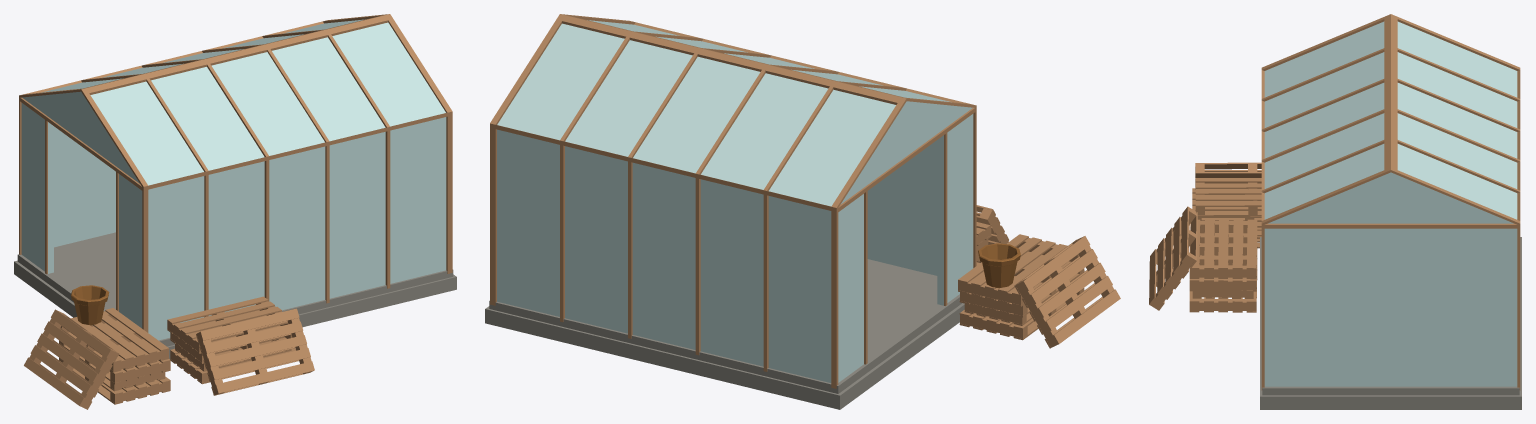
Rendered from Green House.fbx.
3 views of the same model, side by side, from view 1: azimuth 30°, elevation 25°; view 2: azimuth 150°, elevation 25°; view 3: azimuth 270°, elevation 25° (orthographic). The views are drawn at different scales.
Visible parts, largest first — view 1: Cylinder; view 2: Cylinder; view 3: Cylinder.
Part boxes in pixels (box(x1,y1,x2,y2)): Cylinder: box(14, 14, 456, 409); Cylinder: box(485, 14, 1120, 409); Cylinder: box(1149, 14, 1521, 409).
Size of the model in its own units: 530 by 285 by 404.
